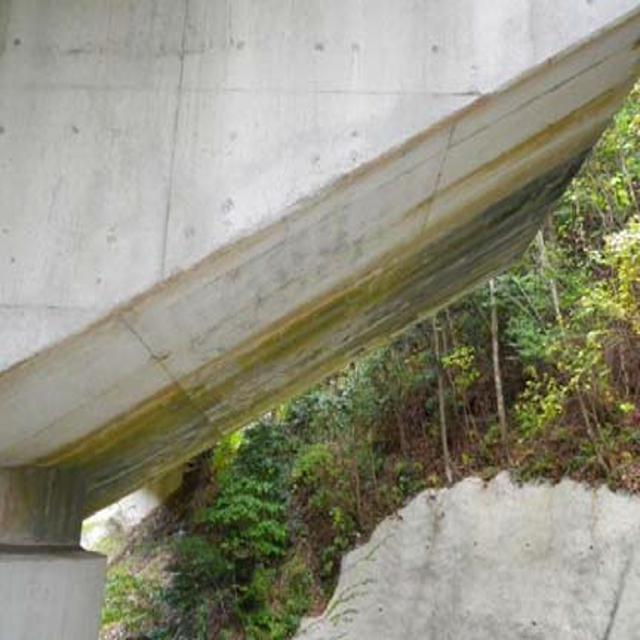leakage: (141, 119, 586, 417), (20, 427, 141, 554)
